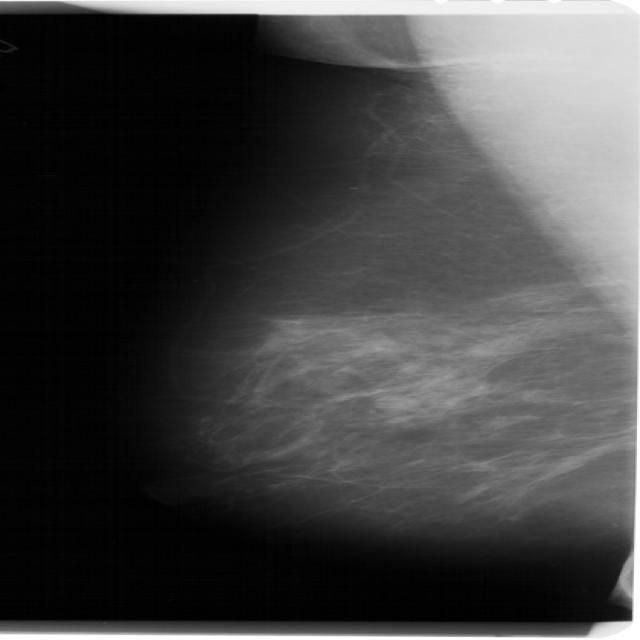tumour: (372, 394, 416, 412)
